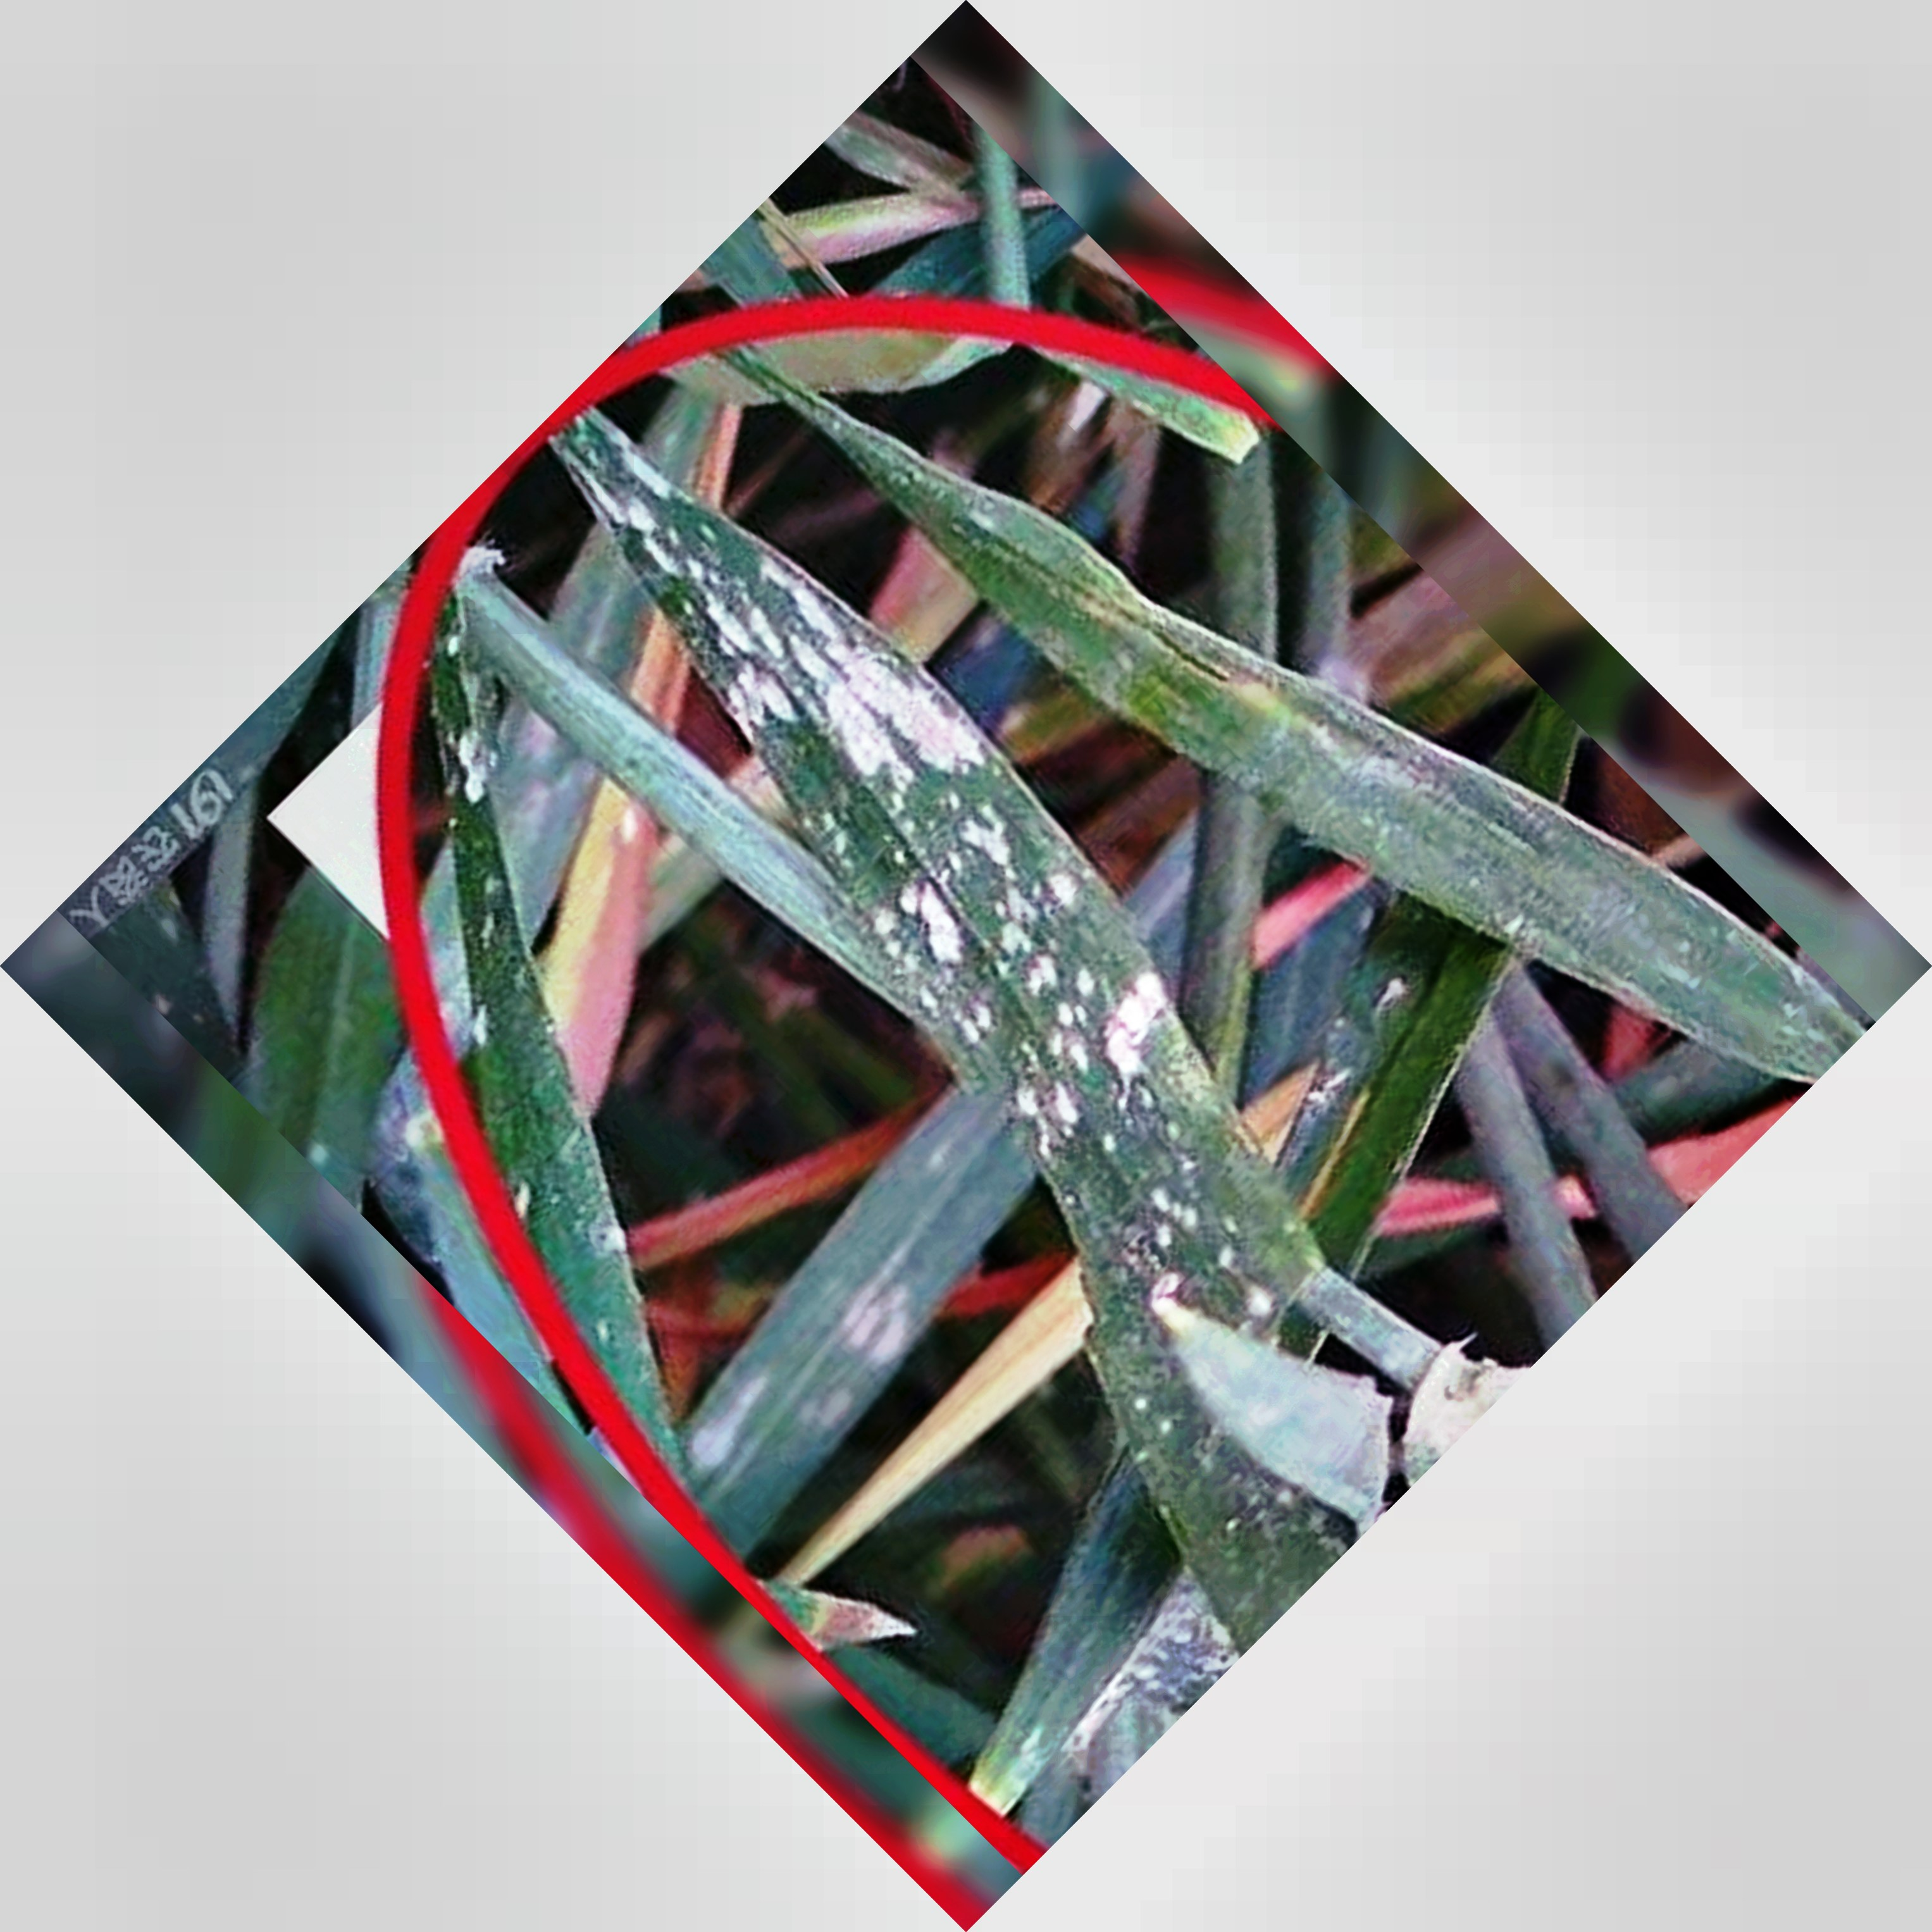Powdery Mildew: (602, 476, 1214, 1223)
